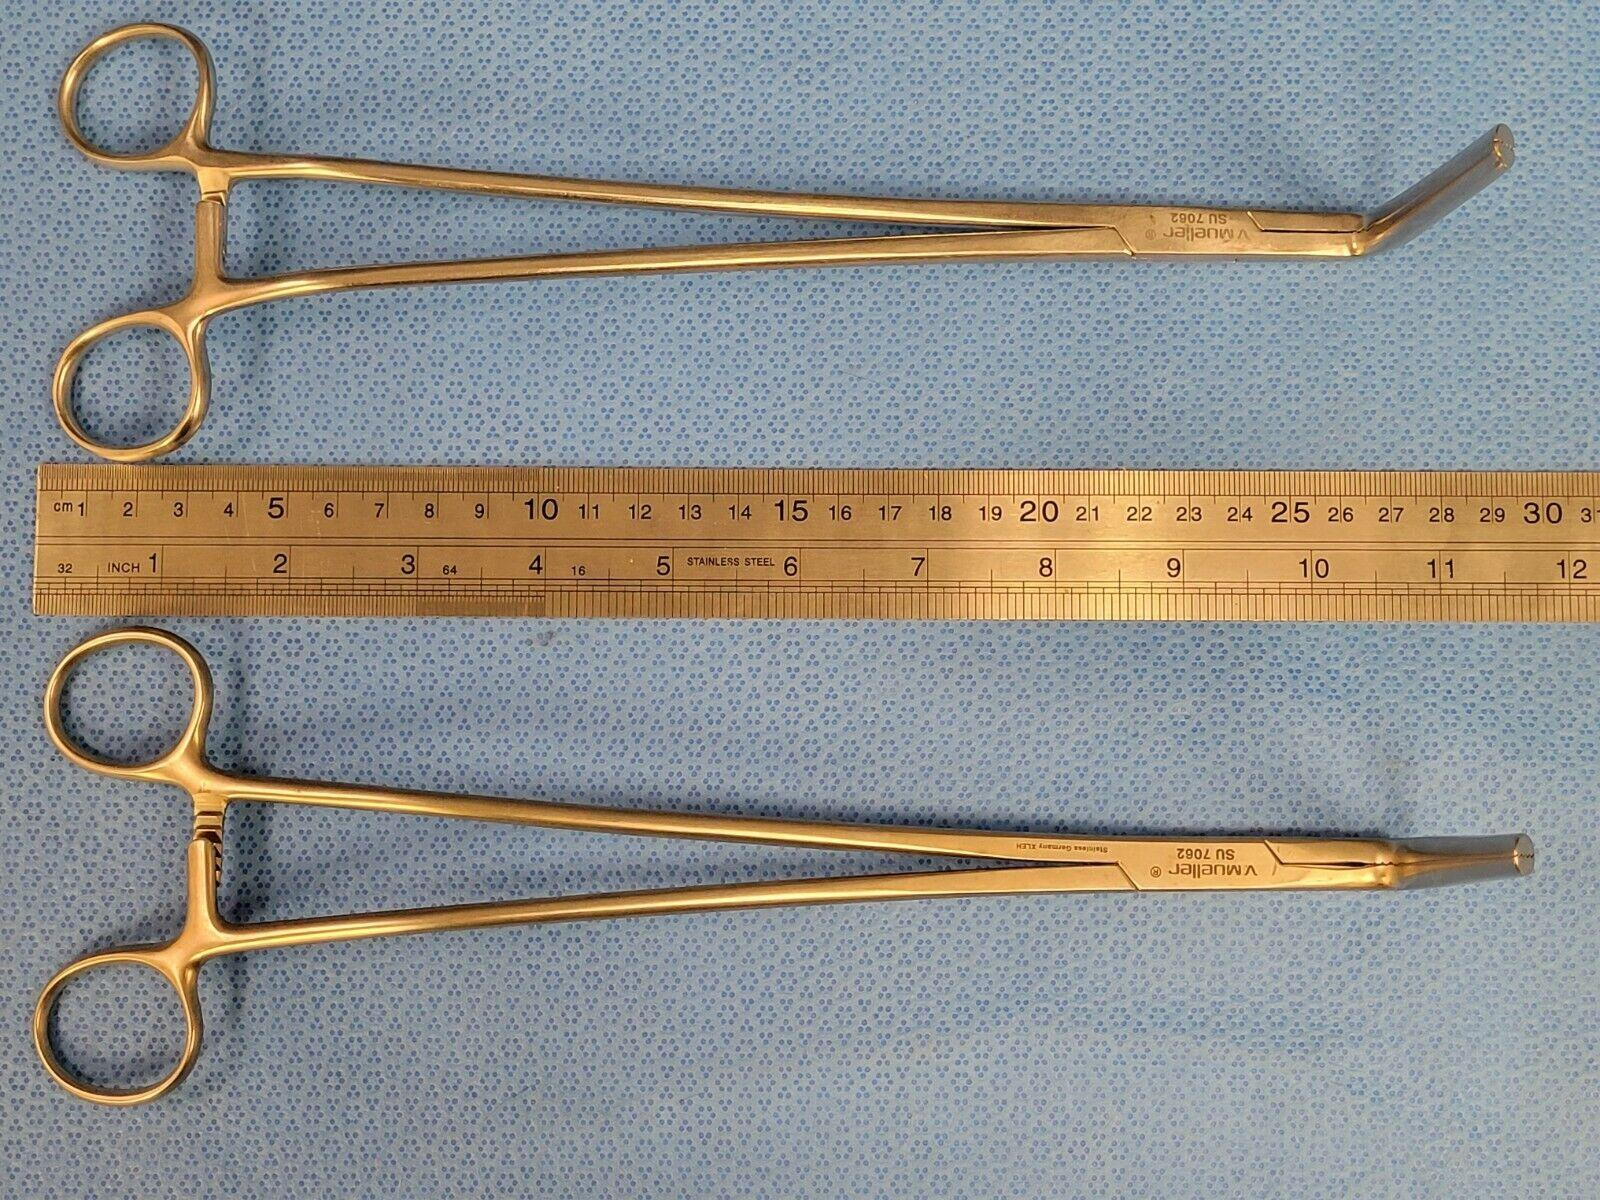Rectangle Cholecystectomy Forceps: (25, 604, 1550, 1090)
Right Angle Colon Clamp: (40, 21, 1517, 450)
